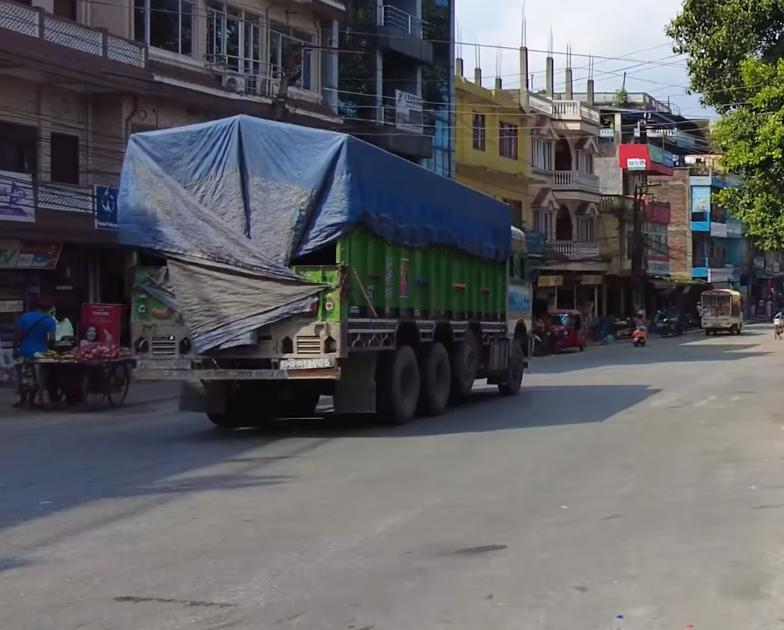auto_rickshaw: (545, 305, 589, 358)
truck: (115, 112, 534, 428)
